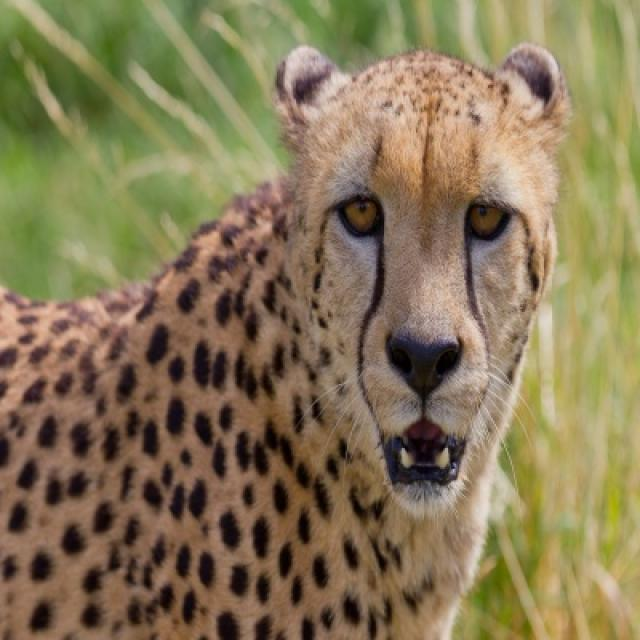Cheetah: (0, 39, 566, 637)
